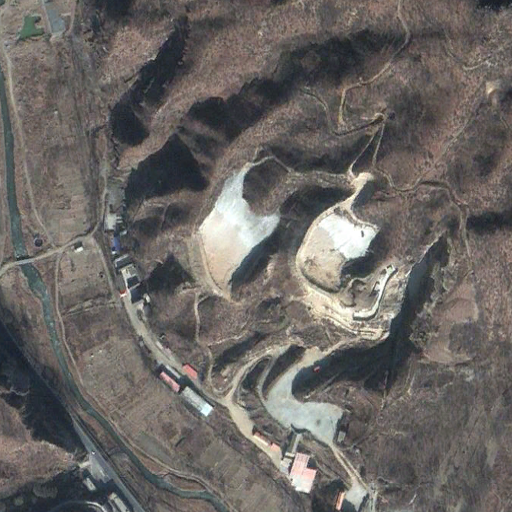tp: (184, 158, 279, 298), (295, 199, 379, 297)
